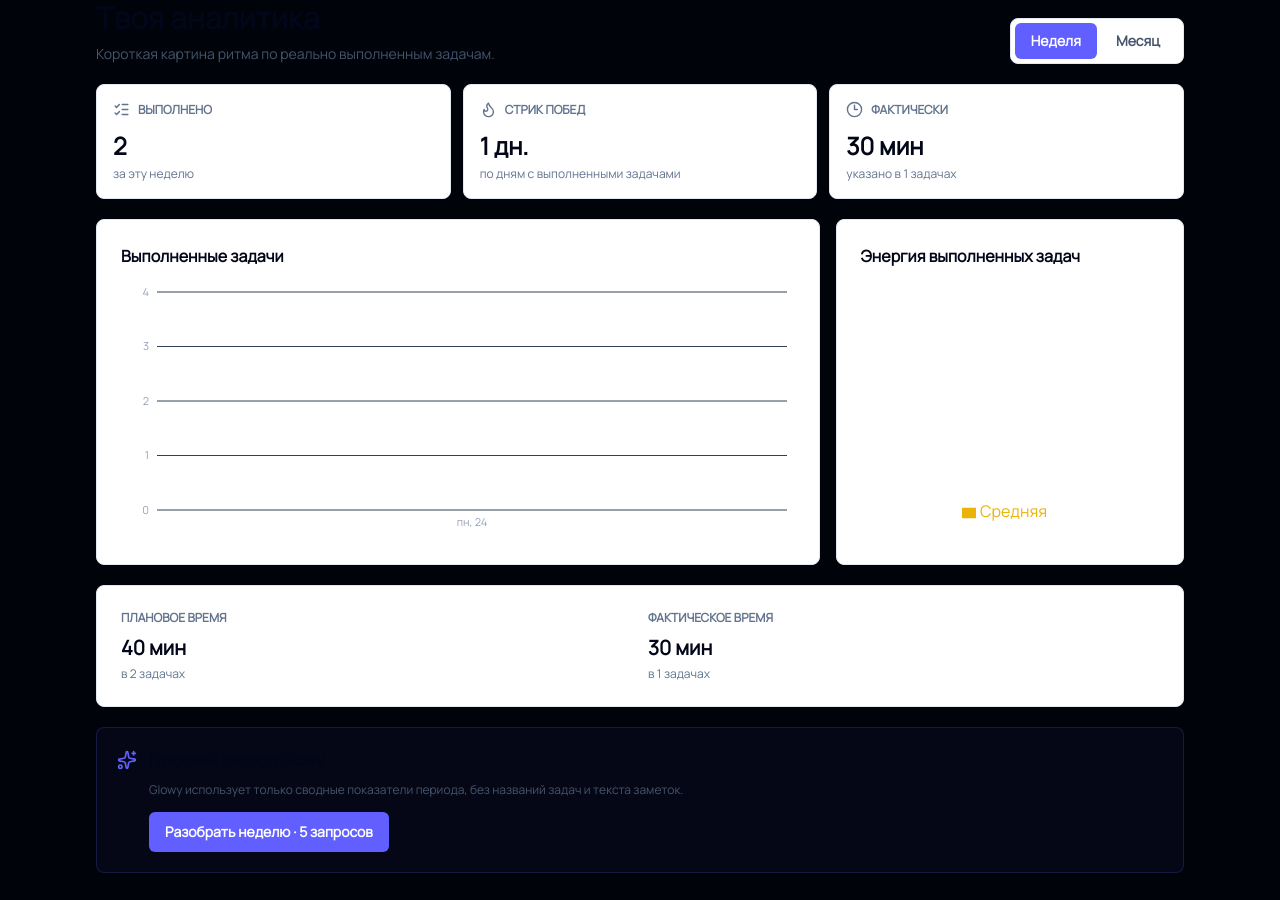
Test: AnalyticsPage report › closes regeneration confirmation on account change
This screenshot has width=1280, height=900.
Later steps or results of the test are not shown.
Click the button "Разобрать неделю · 5 запросов".
click(269, 832)  # box 149,812 -> 389,852
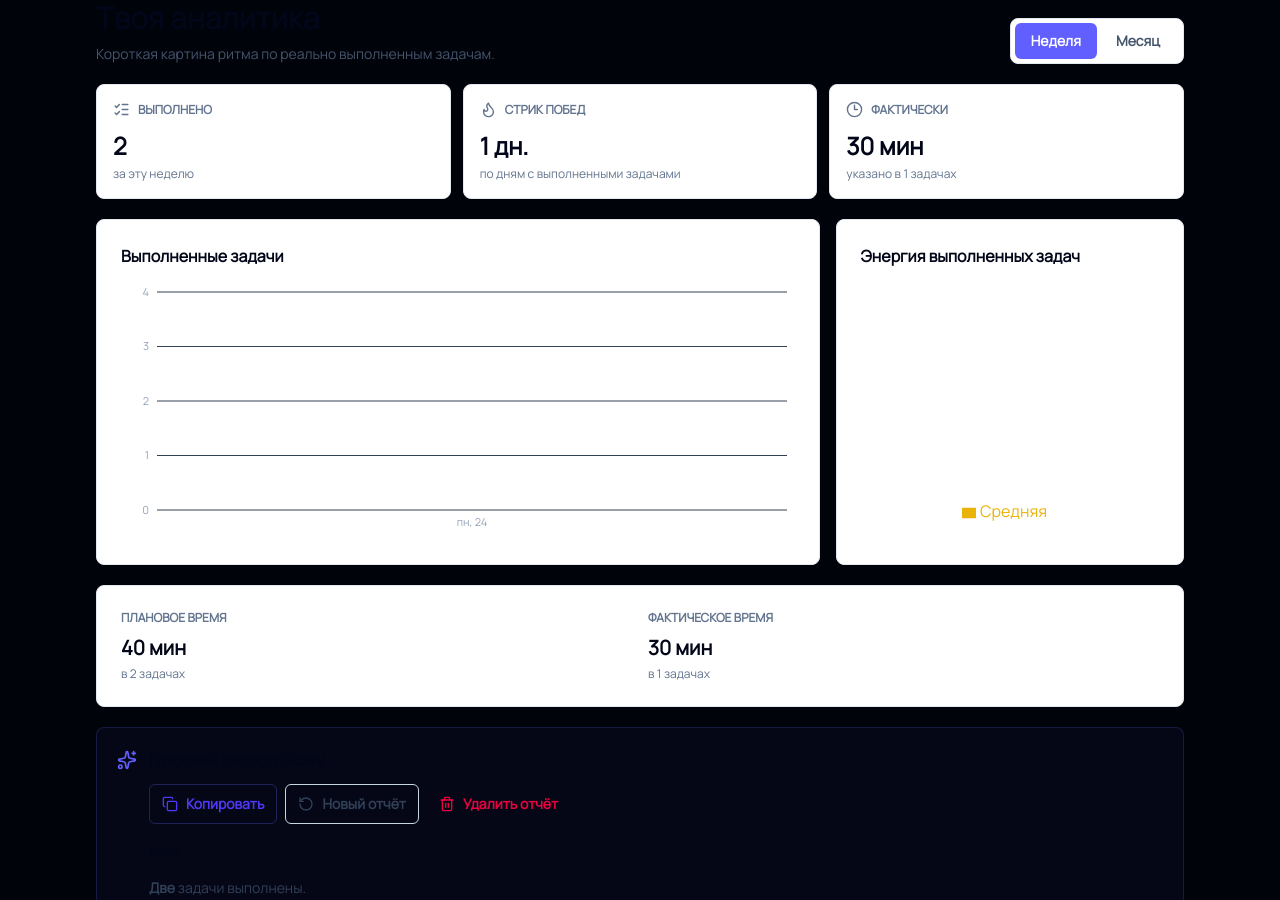
Click the button "Новый отчёт".
click(352, 804)  # box 285,784 -> 419,824
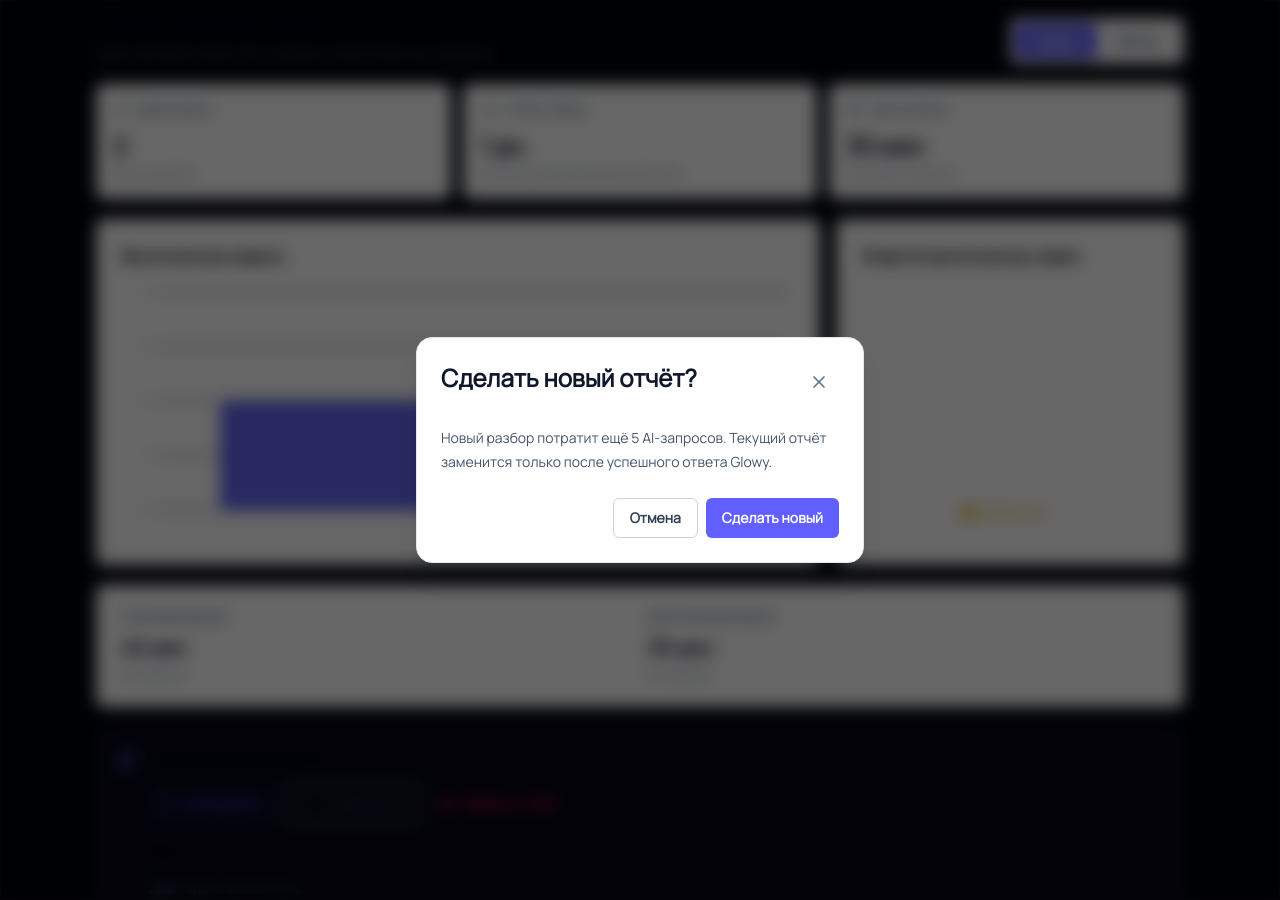
Result: the button "Сделать новый" is shown at 706,498 -> 839,538
